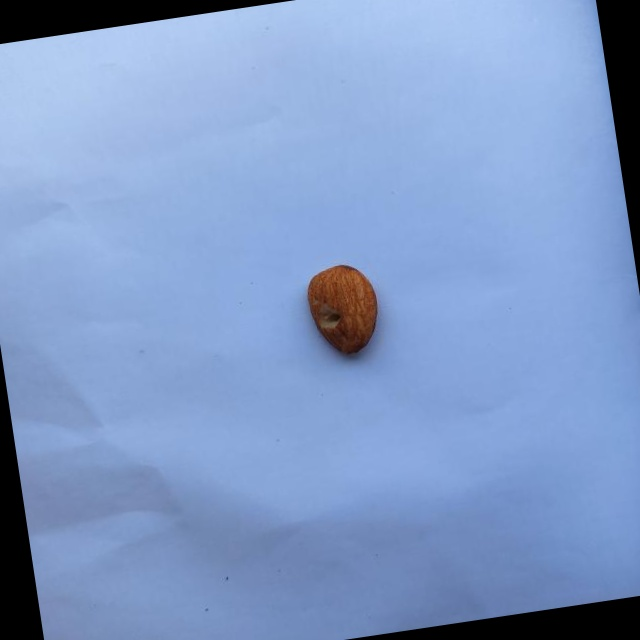grade3: (298, 256, 387, 365)
